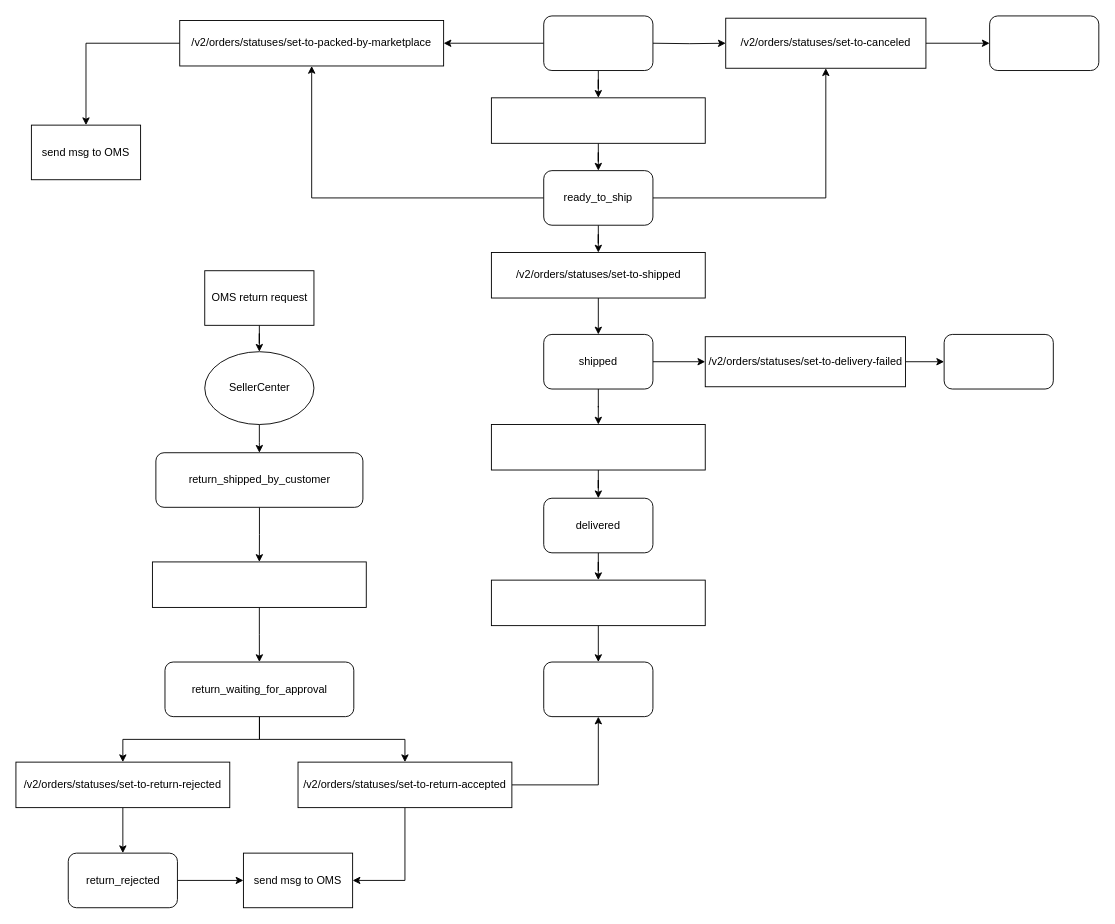
Image size: 1115x924. Some labels were removed from this diagram. The centre of each missing label's shape, as x and y in pixels:
/v2/orders/statuses/set-to-delivered: point (597, 447)
/v2/orders/statuses/set-to-ready-to-ship: point (597, 120)
/v2/orders/statuses/set-to-return-recieved: point (259, 584)
/v2/orders/statuses/set-to-returned: point (597, 602)
canceled: point (1044, 43)
failed: point (998, 361)
pending: point (598, 43)
returned: point (598, 689)
